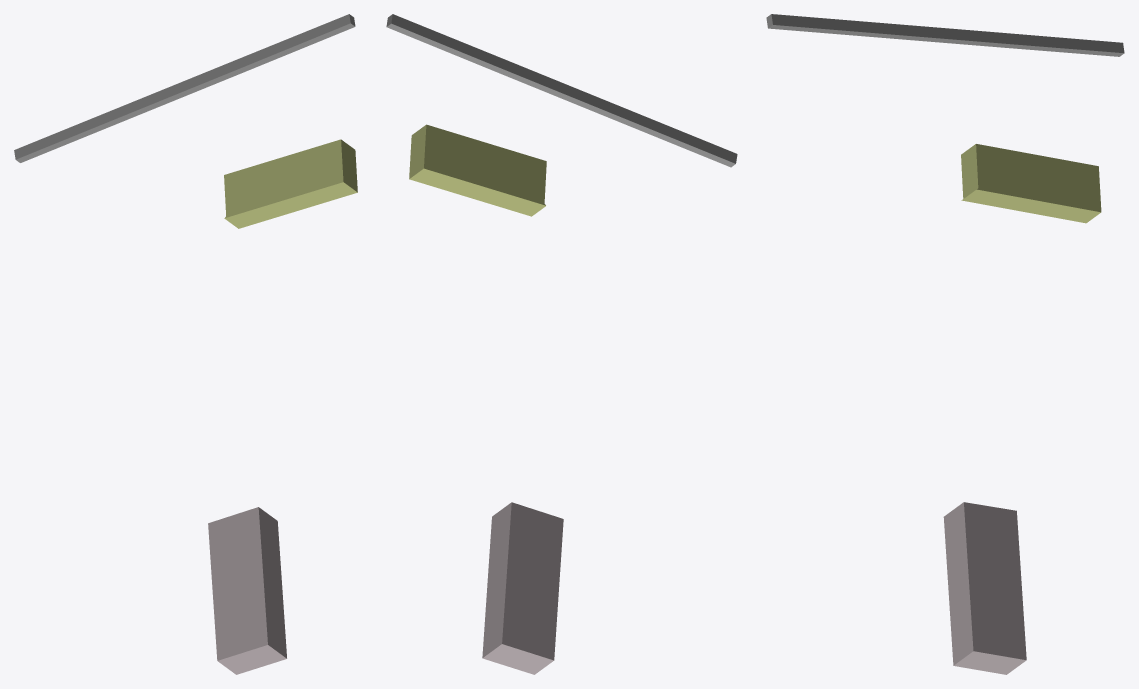
3 renders of one model, left to right at view 1: azimuth 30°, elevation 25°; view 2: azimuth 150°, elevation 25°; view 3: azimuth 330°, elevation 25°, orthographic. The views are drawn at different scales.
Visible parts, largest first — view 1: 0_1_2_0_3_1_0; view 2: 0_1_2_0_3_1_0; view 3: 0_1_2_0_3_1_0.
Part boxes in pixels (box(x1,y1,x2,y2)): 0_1_2_0_3_1_0: box(14, 14, 357, 674); 0_1_2_0_3_1_0: box(386, 14, 737, 674); 0_1_2_0_3_1_0: box(766, 14, 1124, 674).
Size of the model in its own units: 122 by 211 by 15.31.
